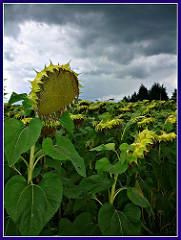sunflower: (30, 60, 80, 119)
